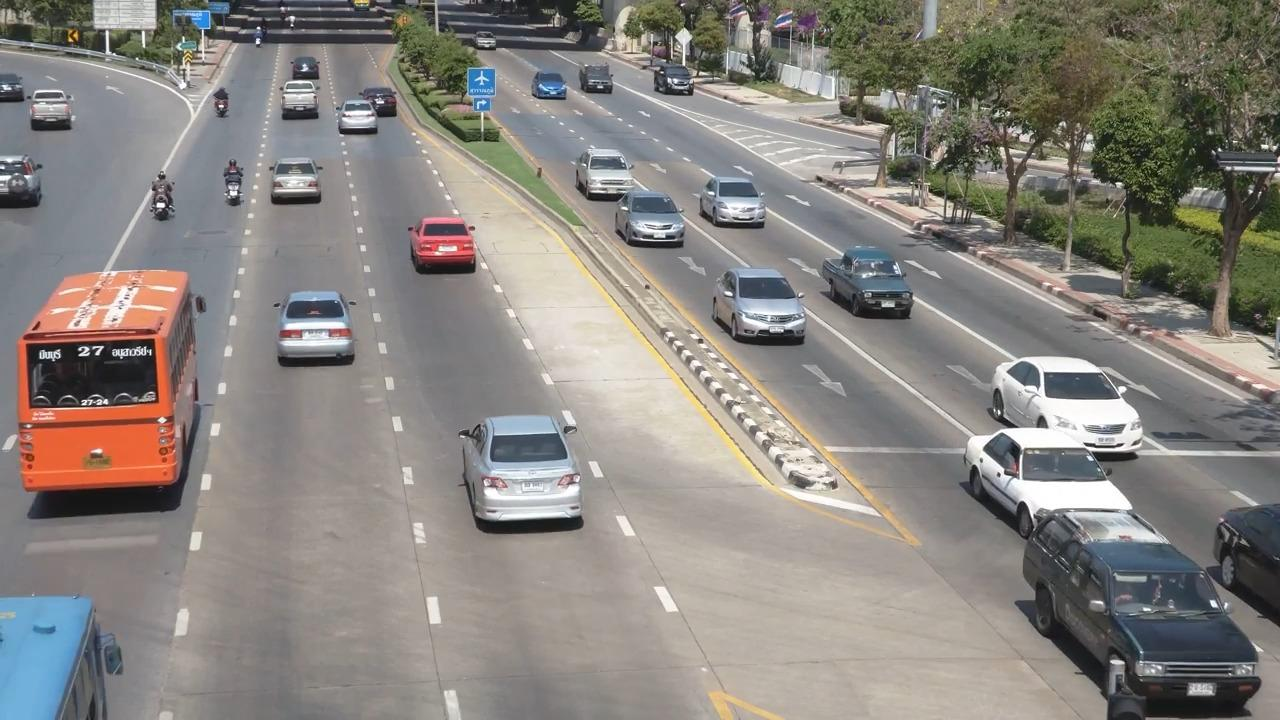CAR: (1002, 503, 1262, 716), (442, 390, 613, 551), (956, 416, 1129, 533), (993, 344, 1153, 470), (270, 284, 375, 387), (815, 246, 928, 334), (711, 262, 814, 352), (398, 205, 488, 292), (609, 181, 702, 262), (693, 168, 777, 237), (258, 156, 340, 222), (19, 83, 87, 161), (577, 142, 646, 201), (271, 88, 334, 144), (330, 93, 382, 149), (361, 85, 412, 129), (645, 60, 698, 102), (278, 50, 331, 89), (576, 58, 626, 97)
HGV_BUS: (19, 263, 196, 530), (0, 585, 149, 720)
MOTOR: (200, 150, 263, 220), (132, 168, 178, 239), (193, 78, 240, 129)
